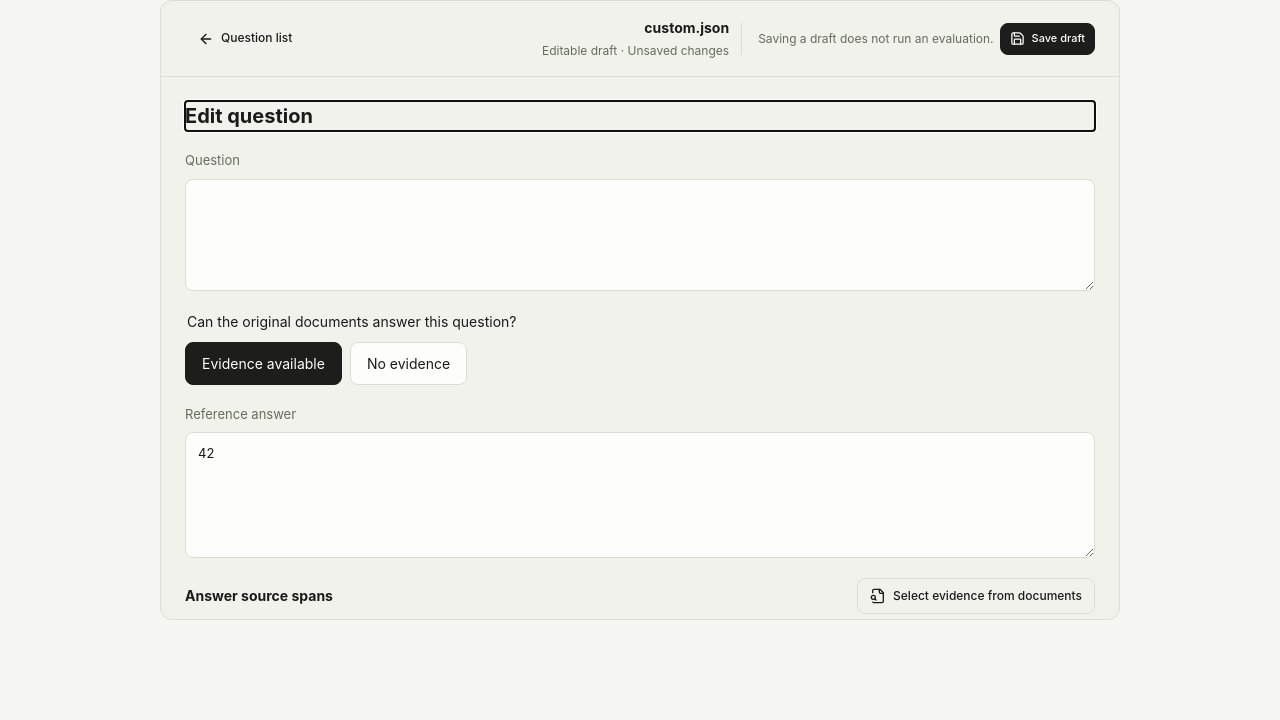
Test: confirms before removing authored evidence and hides internal verdict inputs
Click the button "No evidence" at (408, 363), box x1=350 y1=342 x2=467 y2=384
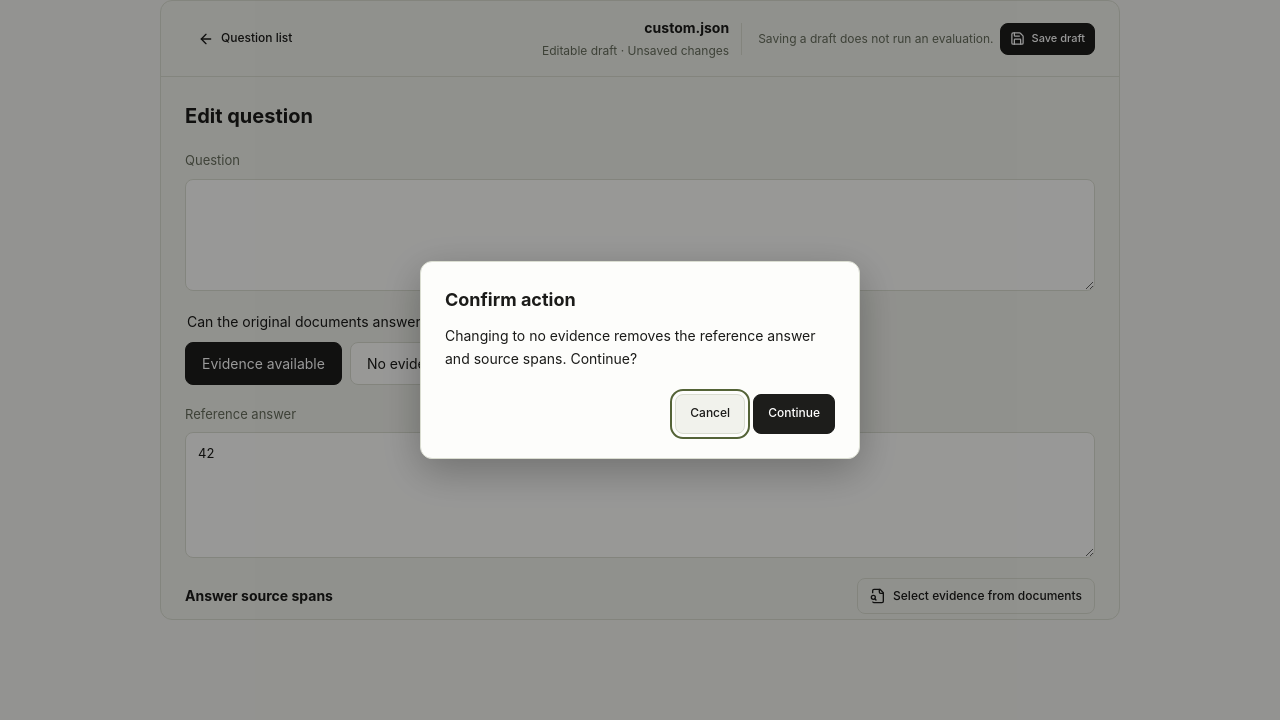
Expected: the dialog is shown, x1=420 y1=261 x2=860 y2=459
Click the button "Cancel" at (710, 414), box x1=675 y1=394 x2=745 y2=434
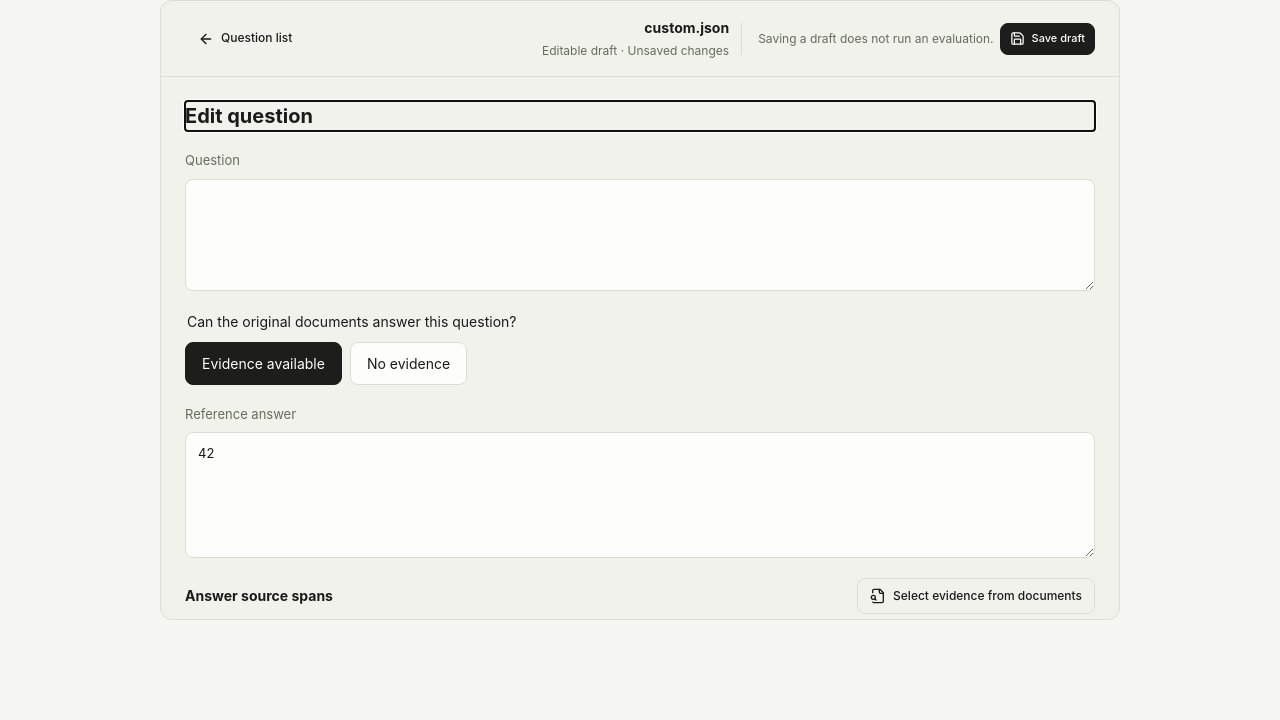
Expected: the text box labelled "Reference answer" holds "42", x1=185 y1=432 x2=1095 y2=558
Click the button "No evidence" at (408, 363), box x1=350 y1=342 x2=467 y2=384
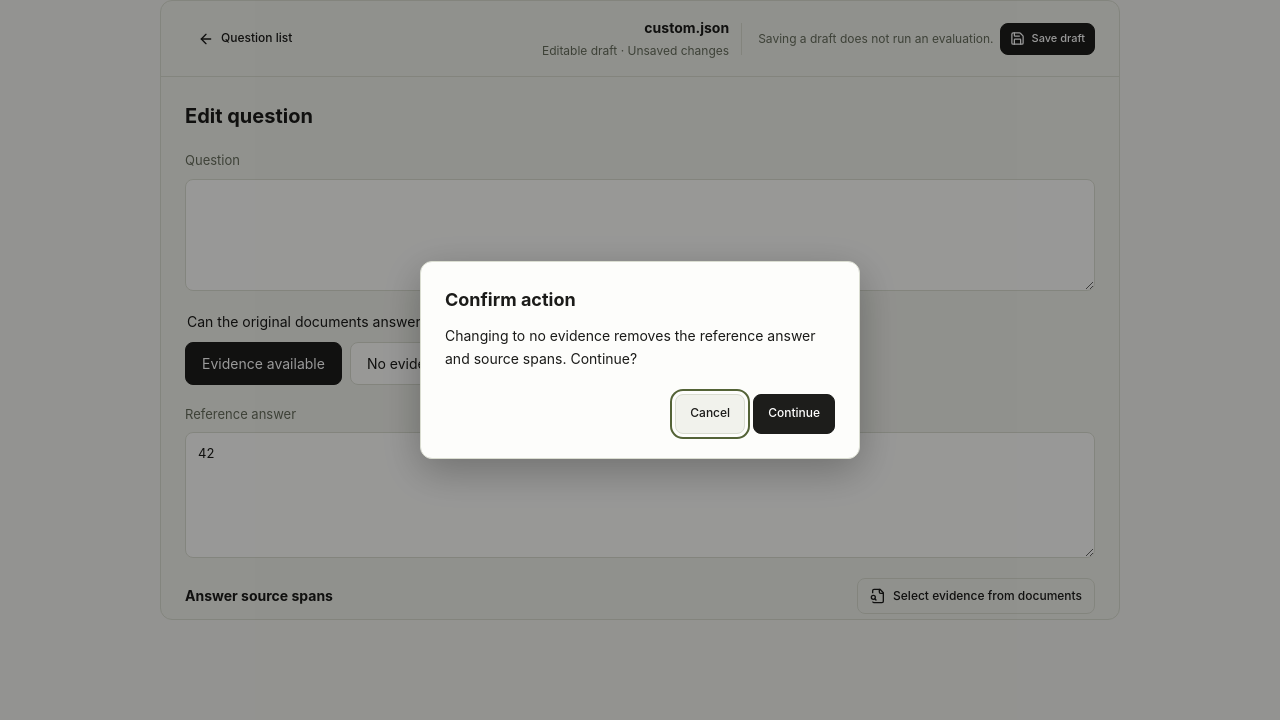
Click the button "Continue" at (794, 414), box x1=753 y1=394 x2=835 y2=434
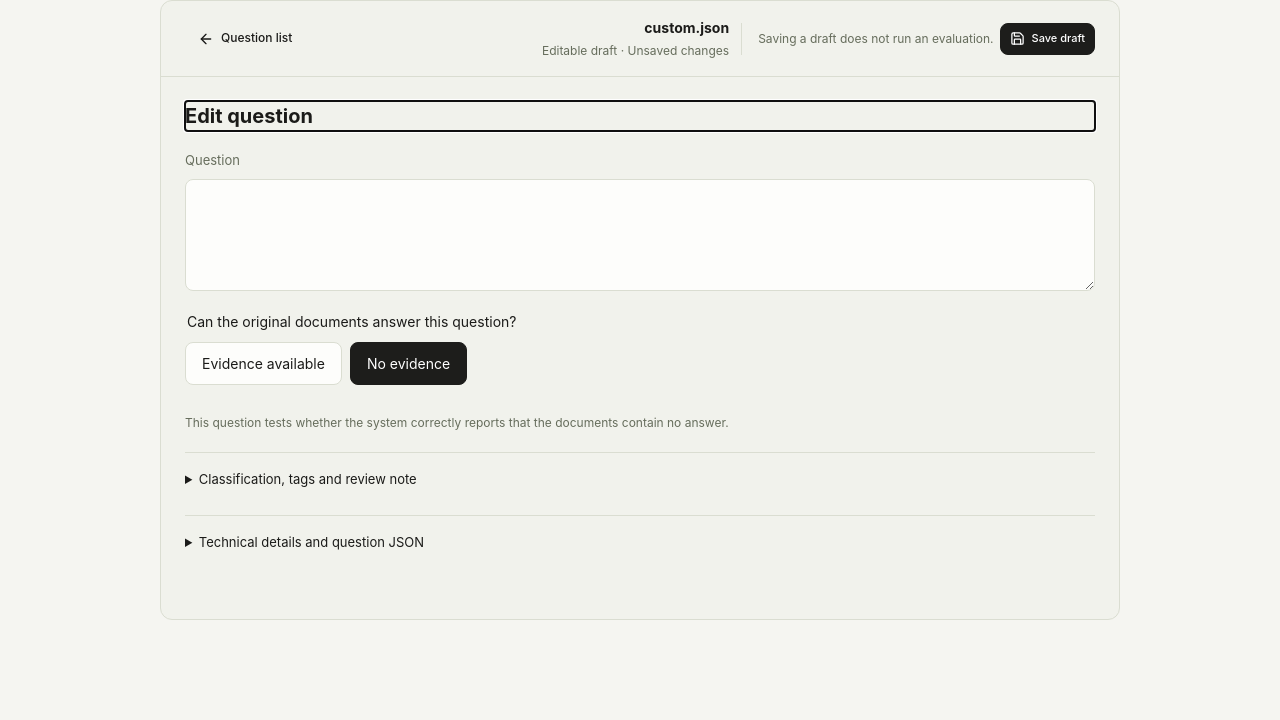
Expected: the label labelled "Reference answer" is gone
